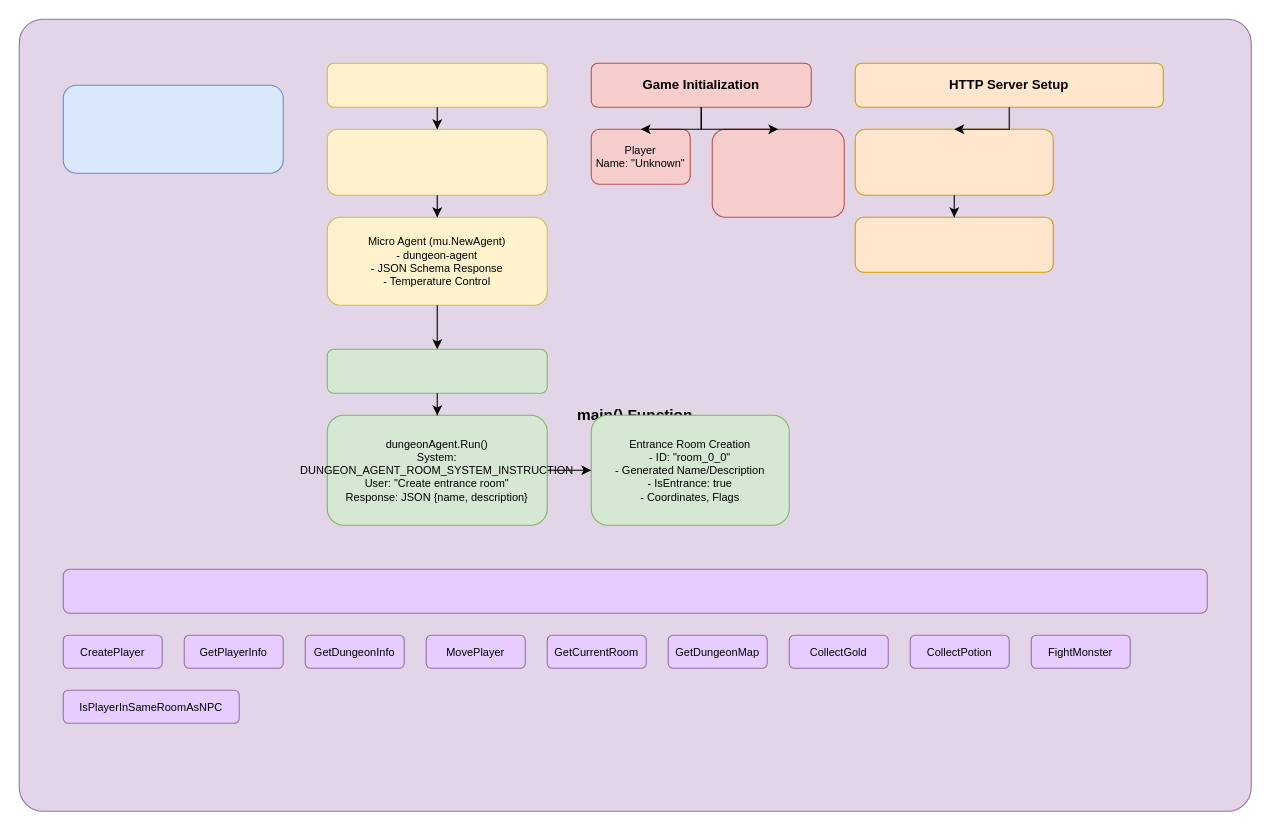
The diagram is 1271 pixels wide and 831 high, and some of its shapes have lost their labels. Each missing label, with the centre of its shape:
Dungeon - Name, Description - Width x Height - Entrance/Exit Coords - Rooms[]: pixel 777 172
Dungeon Agent Setup: pixel 436 84
Entrance Room Generation: pixel 436 370
HTTP ServeMux - /health → healthCheckHandler - /mcp → MCP Server: pixel 953 161
http.ListenAndServe Port: MCP_HTTP_PORT (9090): pixel 953 244
MCP Server Creation NewMCPServer( "dungeon-mcp-server", "0.0.0"): pixel 172 128
MCP Tools Registration: pixel 634 590
OpenAI Client Base URL: MODEL_RUNNER_BASE_URL Model: DUNGEON_MODEL: pixel 436 161
